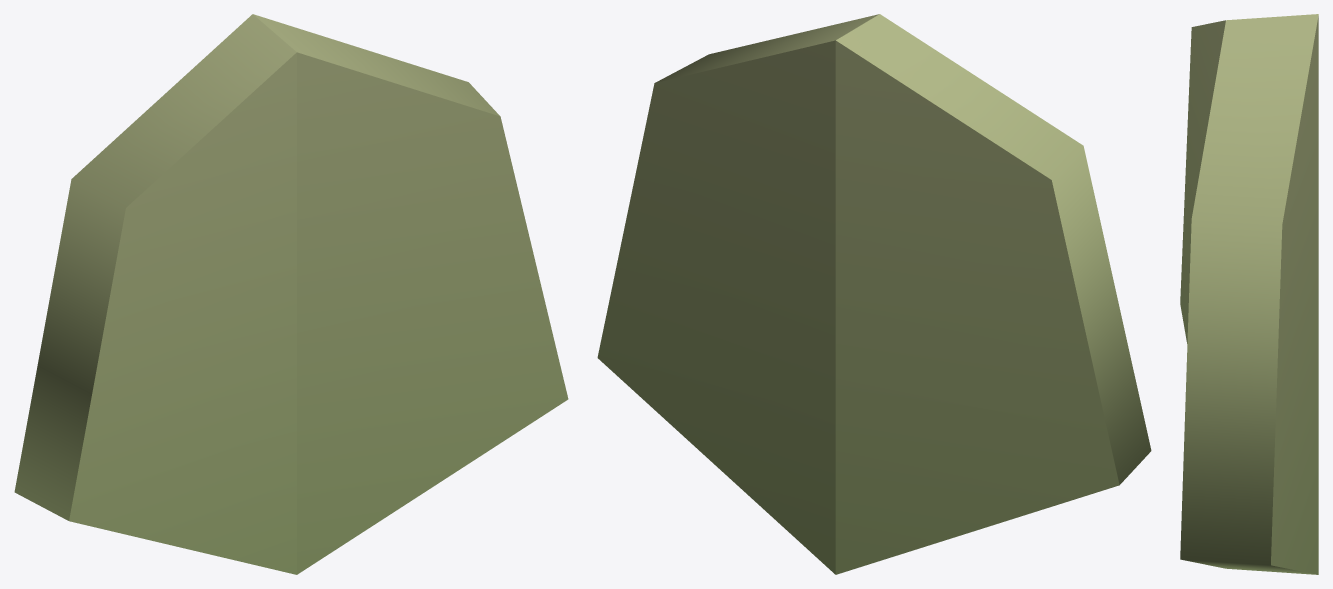
Rendered from leaf-b.glb.
3 renders of one model, left to right at view 1: azimuth 30°, elevation 25°; view 2: azimuth 150°, elevation 25°; view 3: azimuth 270°, elevation 25°, orthographic. The views are drawn at different scales.
Parts seen in each view (by area): view 1: leaf-b; view 2: leaf-b; view 3: leaf-b.
Boxes of the visible parts, <box> form: leaf-b: <box>14,14,568,574</box>; leaf-b: <box>597,14,1151,574</box>; leaf-b: <box>1180,14,1318,574</box>.
Bounding box in the file's own units: 0.1725 × 0.1687 × 0.0378.
